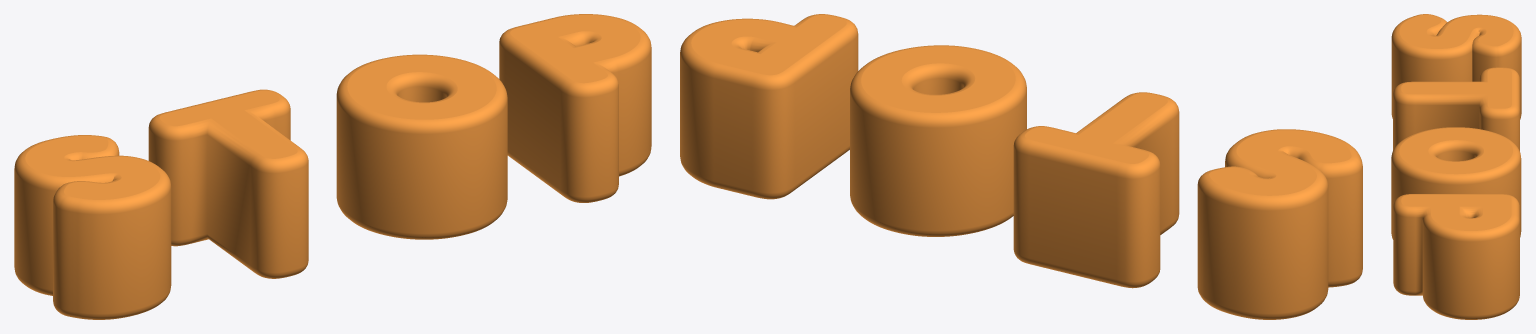
File: STOP.fbx
The picture shows the model from 3 angles, left to right: view 1: azimuth 30°, elevation 25°; view 2: azimuth 150°, elevation 25°; view 3: azimuth 270°, elevation 25°; orthographic projection. The views are drawn at different scales.
Visible parts, largest first — view 1: Text.006; view 2: Text.006; view 3: Text.006.
Boxes of the visible parts, box(x1,y1,x2,y2) form: Text.006: box(14, 14, 651, 319); Text.006: box(680, 14, 1362, 319); Text.006: box(1391, 14, 1521, 319).
Size of the model in its own units: 195 by 36 by 48.17.
